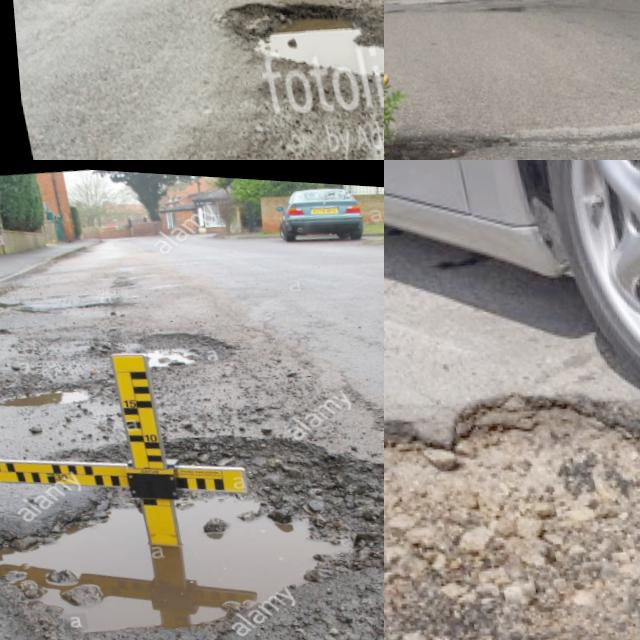Potholes: (0, 383, 384, 640), (384, 315, 640, 640), (0, 296, 250, 456), (194, 0, 384, 156), (0, 249, 136, 373), (384, 62, 518, 160), (0, 289, 60, 419), (462, 0, 544, 47), (384, 0, 465, 36)
